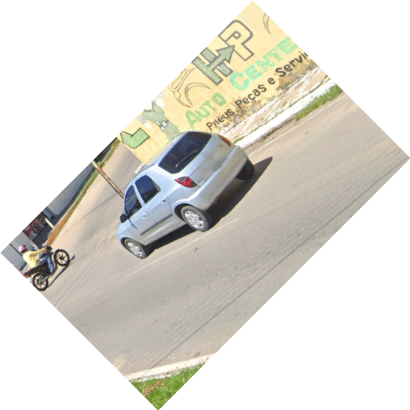car: (114, 128, 260, 264)
